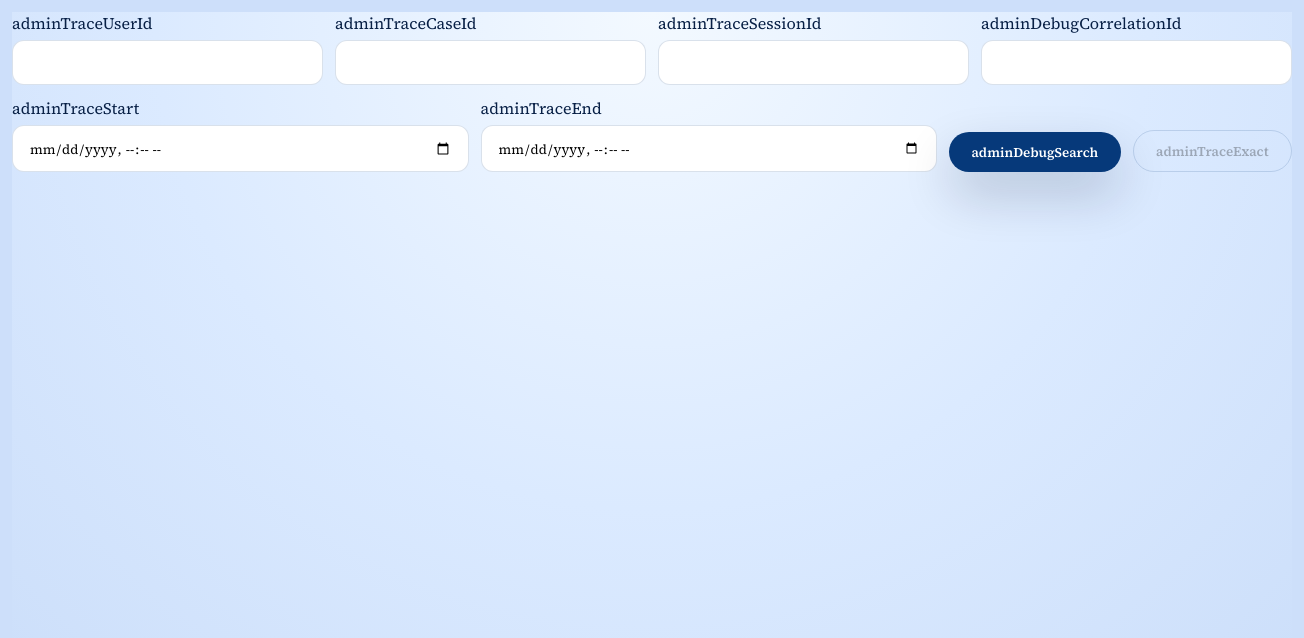
Test case: metadata trace search › localizes search error 403
The width and height of the screenshot is (1304, 638).
Type "user-a" into the field labelled "adminTraceUserId" at (168, 62), box [12, 40, 323, 85]
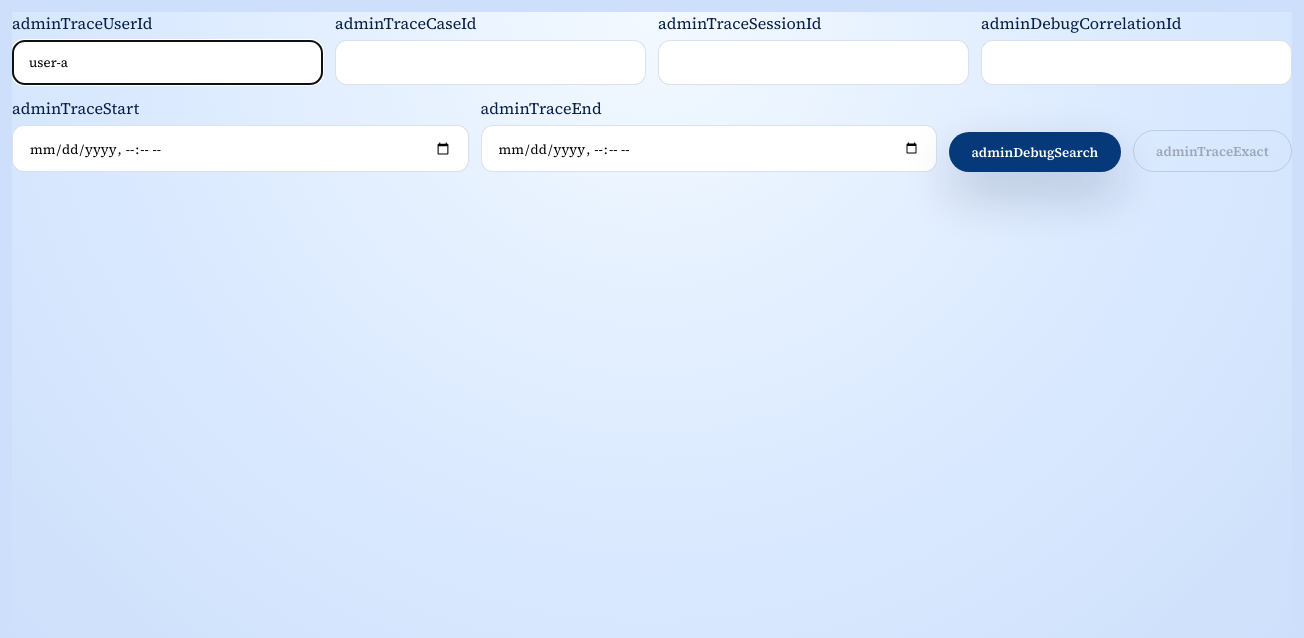
Click the button "adminDebugSearch" at (1035, 152), box [949, 132, 1121, 172]
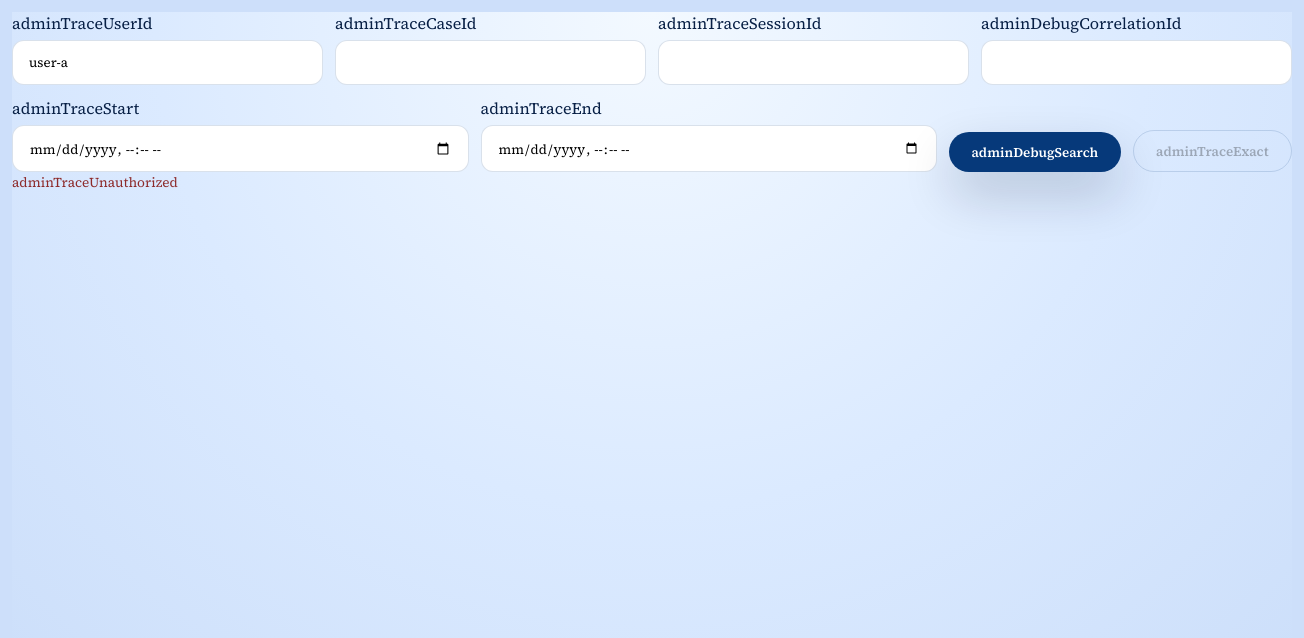
Now the message reads "adminTraceUnauthorized", box [12, 173, 178, 192]
